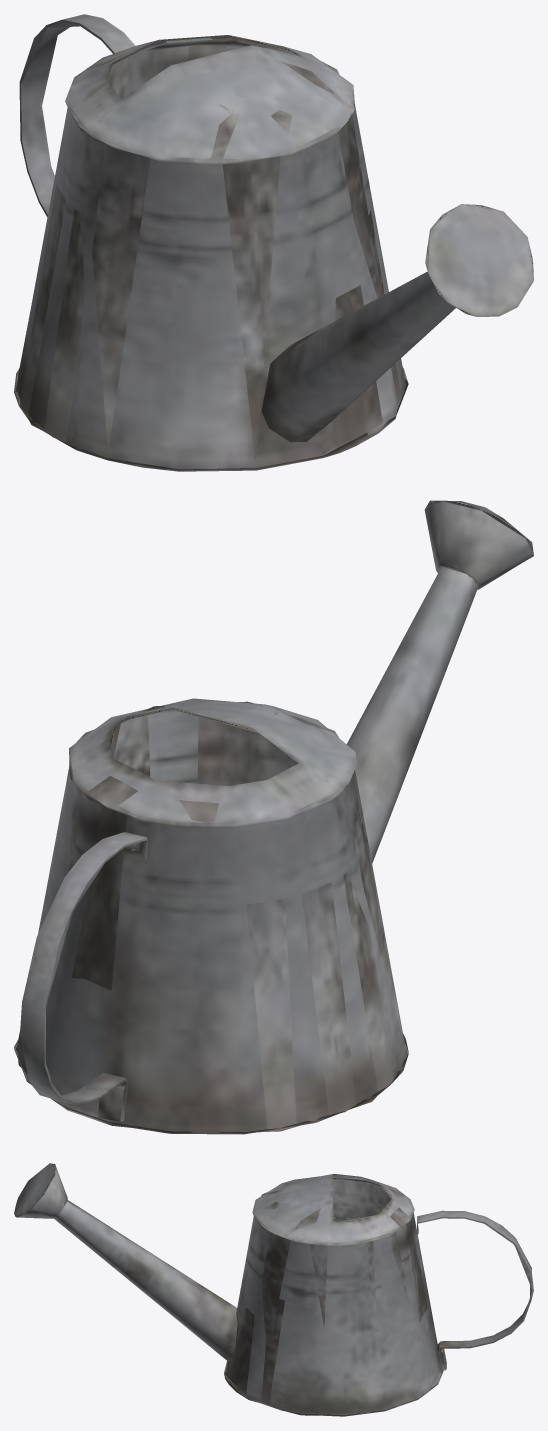
File: watering_can_metal_01.glb
3 views of the same model, one above another, from view 1: azimuth 30°, elevation 25°; view 2: azimuth 150°, elevation 25°; view 3: azimuth 270°, elevation 25° (orthographic). The views are drawn at different scales.
Parts seen in each view (by area): view 1: watering_can_metal_01; view 2: watering_can_metal_01; view 3: watering_can_metal_01.
Part boxes in pixels (x1,y1,x2,y2): watering_can_metal_01: (14, 14, 533, 471); watering_can_metal_01: (14, 500, 533, 1134); watering_can_metal_01: (14, 1163, 533, 1416).
Bounding box in the file's own units: 0.1896 × 0.1965 × 0.4521.
1 material, 1 textured.
